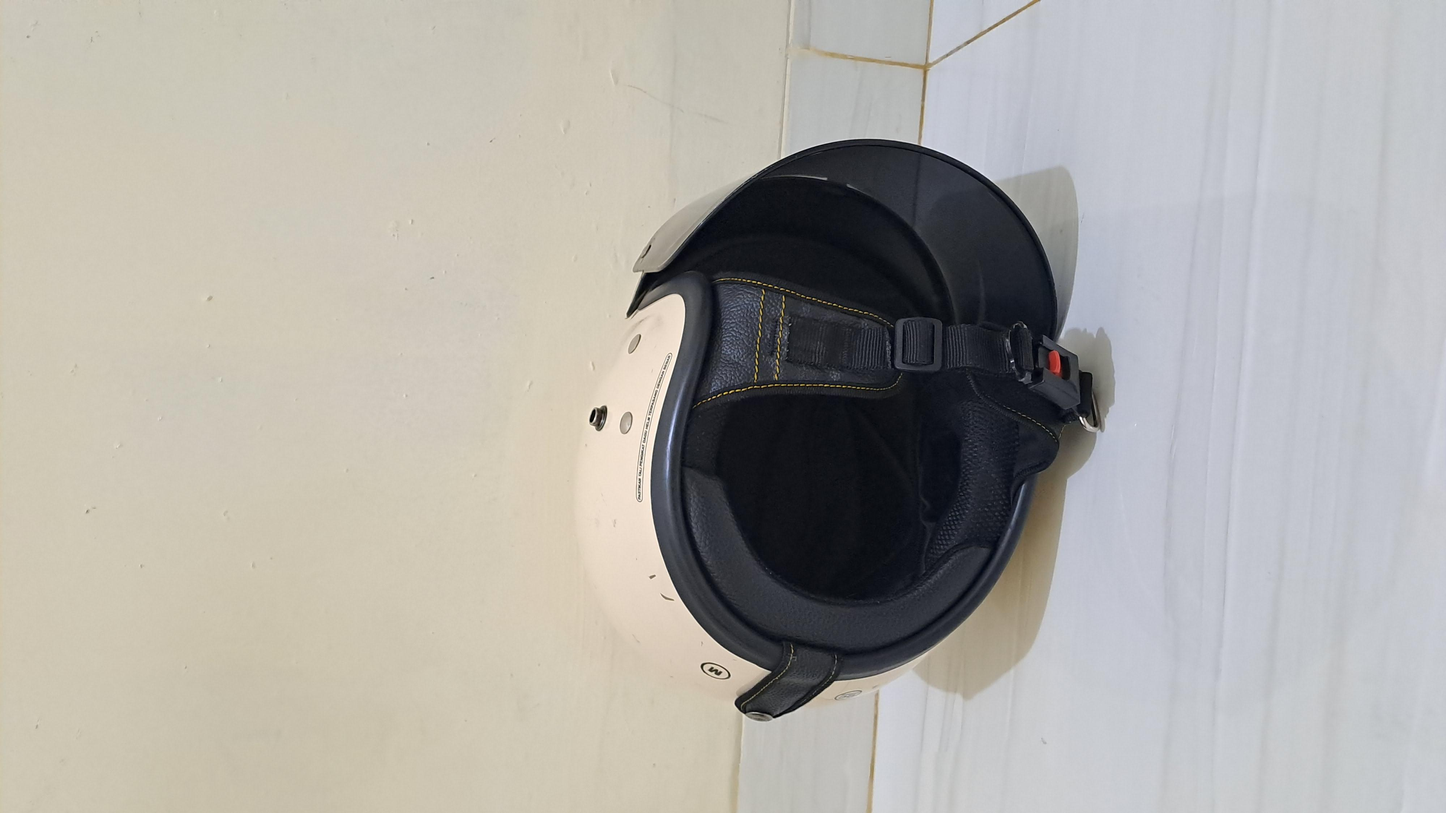helmet: (136, 311, 1249, 629)
